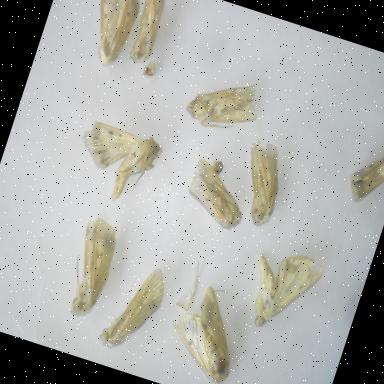abw: (151, 270, 256, 384), (62, 106, 170, 215), (232, 237, 330, 348), (89, 250, 179, 364), (53, 208, 135, 330), (176, 59, 274, 152), (220, 130, 300, 234), (173, 148, 261, 237), (71, 0, 154, 77), (117, 0, 180, 74), (339, 134, 384, 215)
